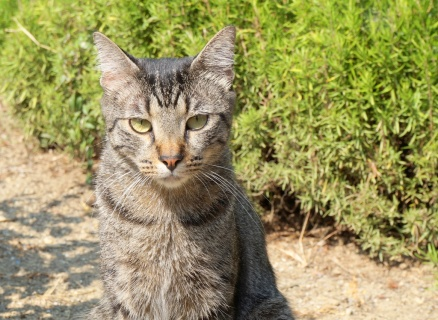Cat: (85, 27, 301, 320)
